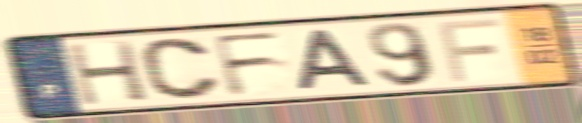9: (364, 20, 438, 89)
A: (296, 27, 376, 93)
C: (137, 36, 225, 102)
F: (208, 28, 287, 99), (434, 16, 504, 84)
H: (63, 38, 153, 108)
